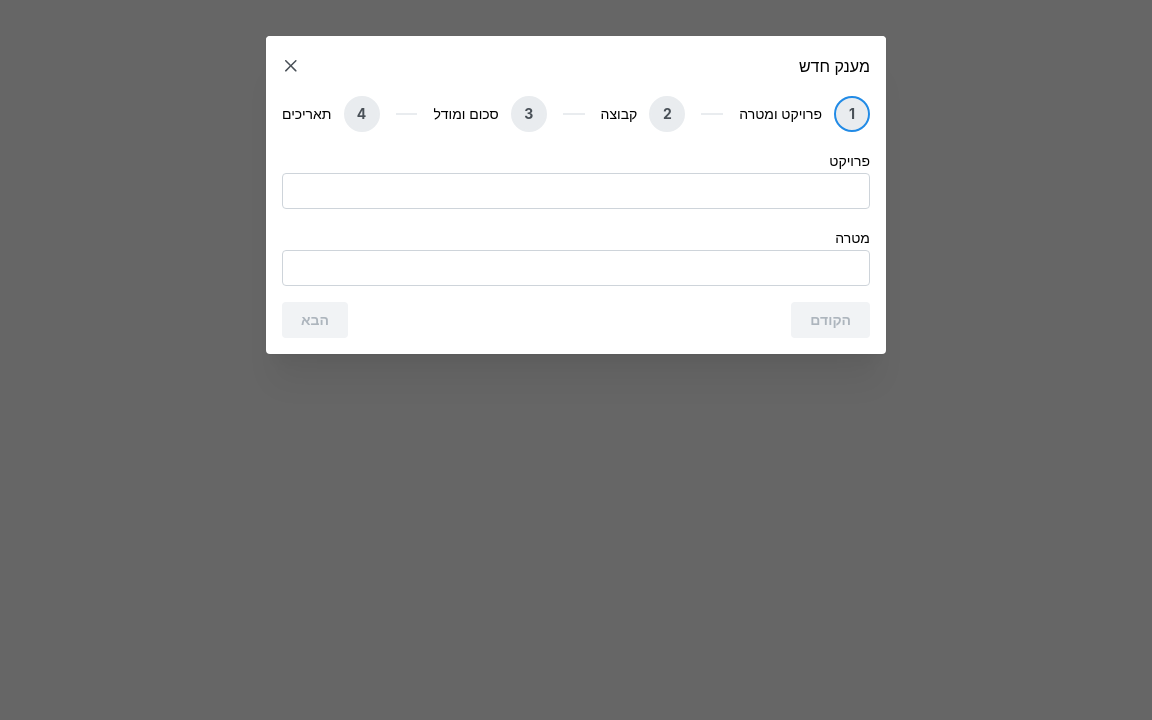
Test: GrantWizard › blocks amount above pool
The width and height of the screenshot is (1152, 720).
Type "PRJ-1" into the field with test id "wizard-project" at (576, 191), box [282,173,870,209]
Type "Pilot" into the field with test id "wizard-purpose" at (576, 268), box [282,250,870,286]
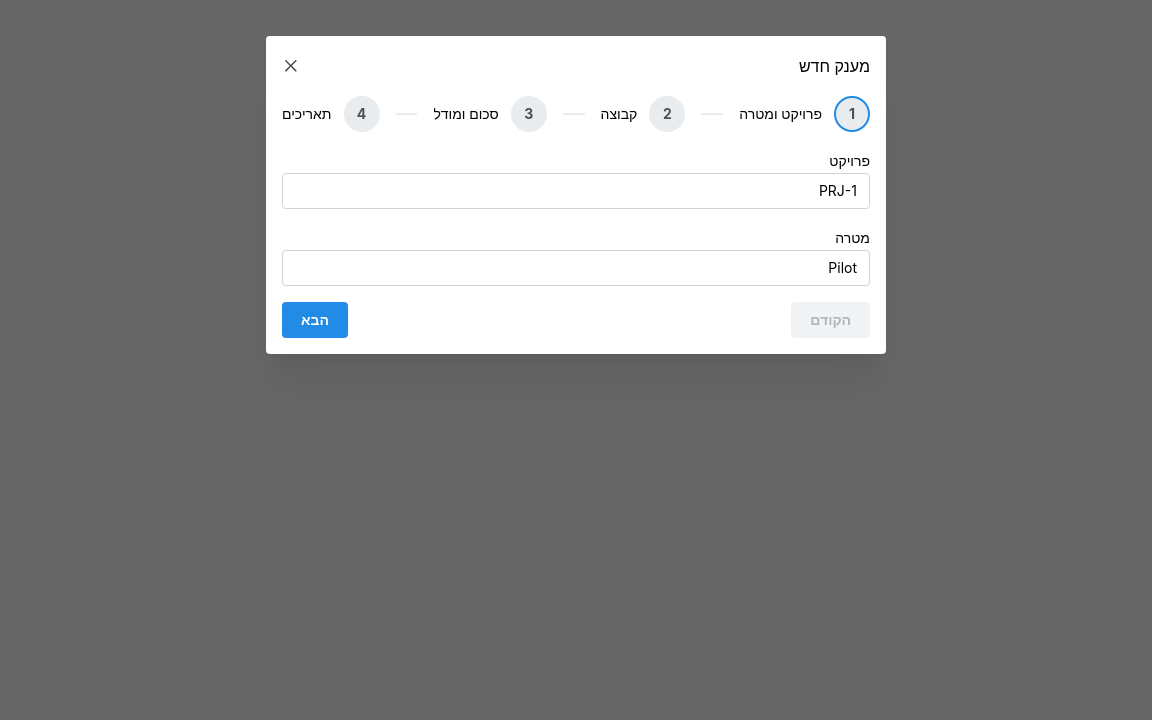
Click the button with test id "wizard-next" at (315, 320), box [282,302,348,338]
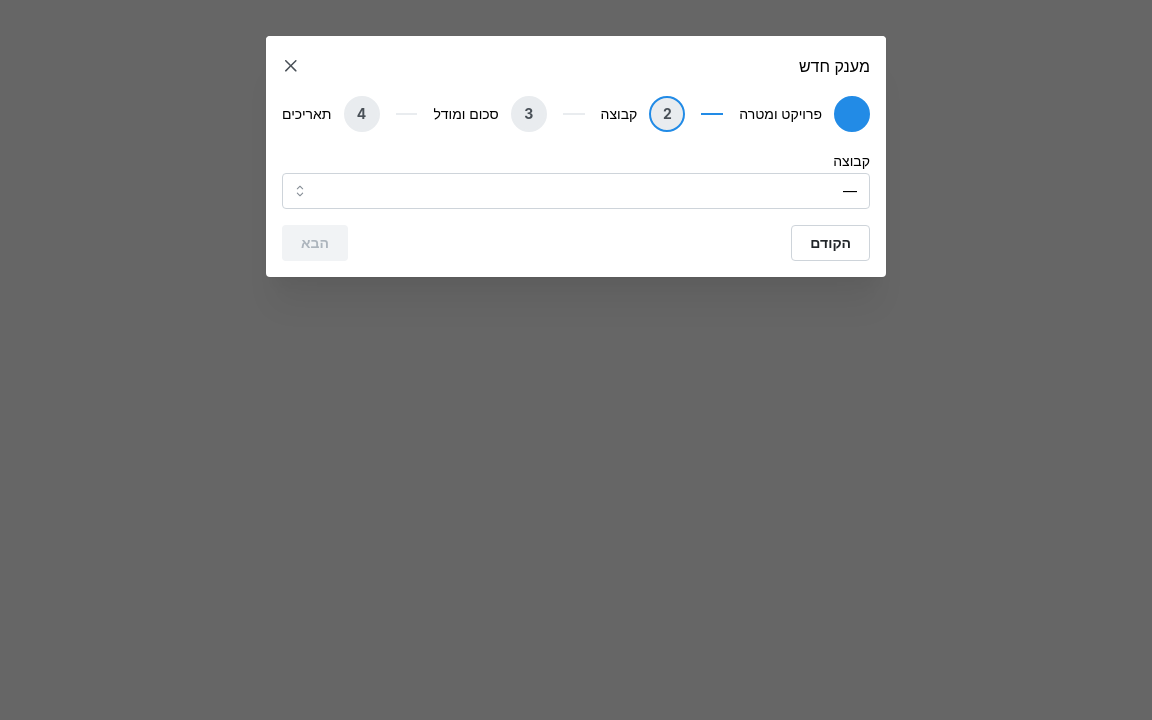
Select "Group A1" in the dropdown with test id "wizard-group" at (576, 191), box [282,173,870,209]
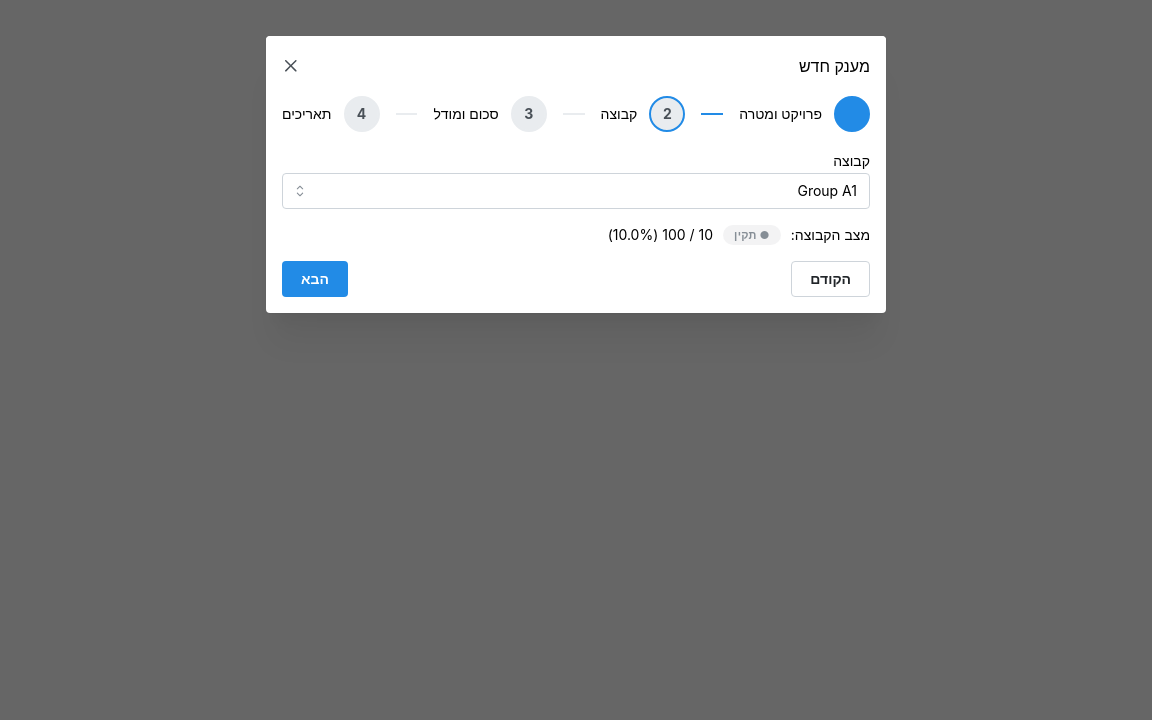
Click the button with test id "wizard-next" at (315, 279), box [282,261,348,297]
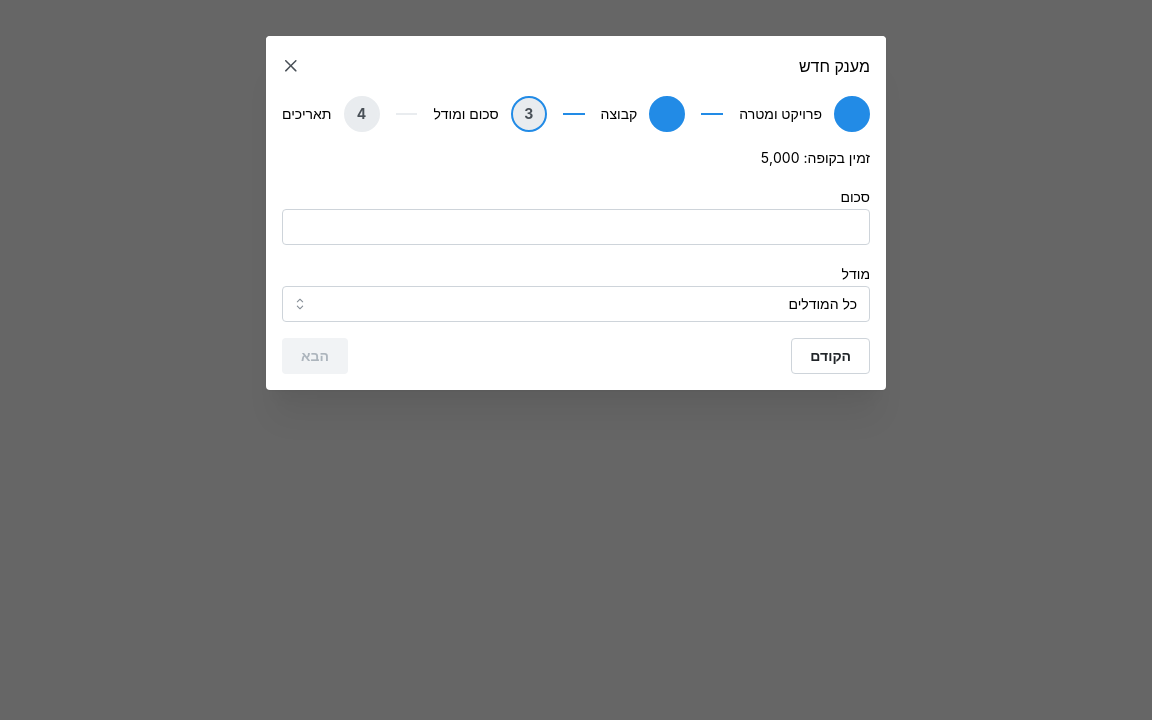
Type "5001" into the field with test id "wizard-amount" at (576, 227), box [282,209,870,245]
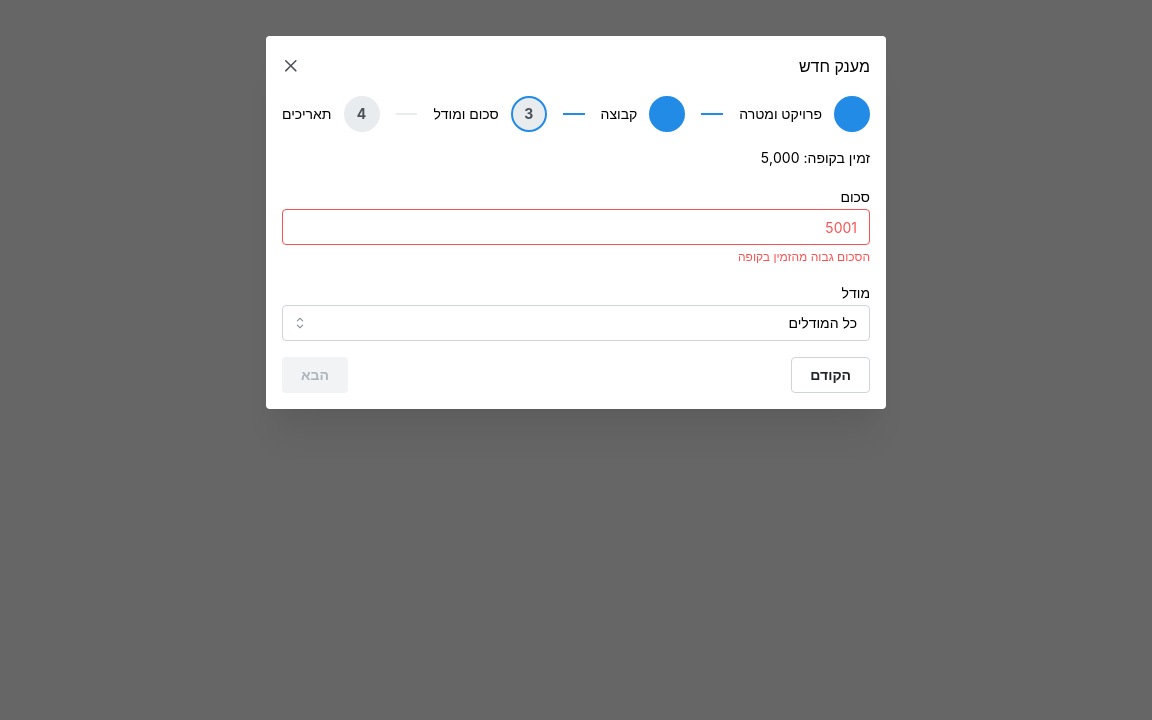
Now the button with test id "wizard-next" is disabled, box [282,357,348,393]
Now the text "הסכום גבוה מהזמין בקופה" is shown, box [738,249,870,264]
Replace the text in the field with test id "wizard-amount" with "5000" at (576, 227), box [282,209,870,245]
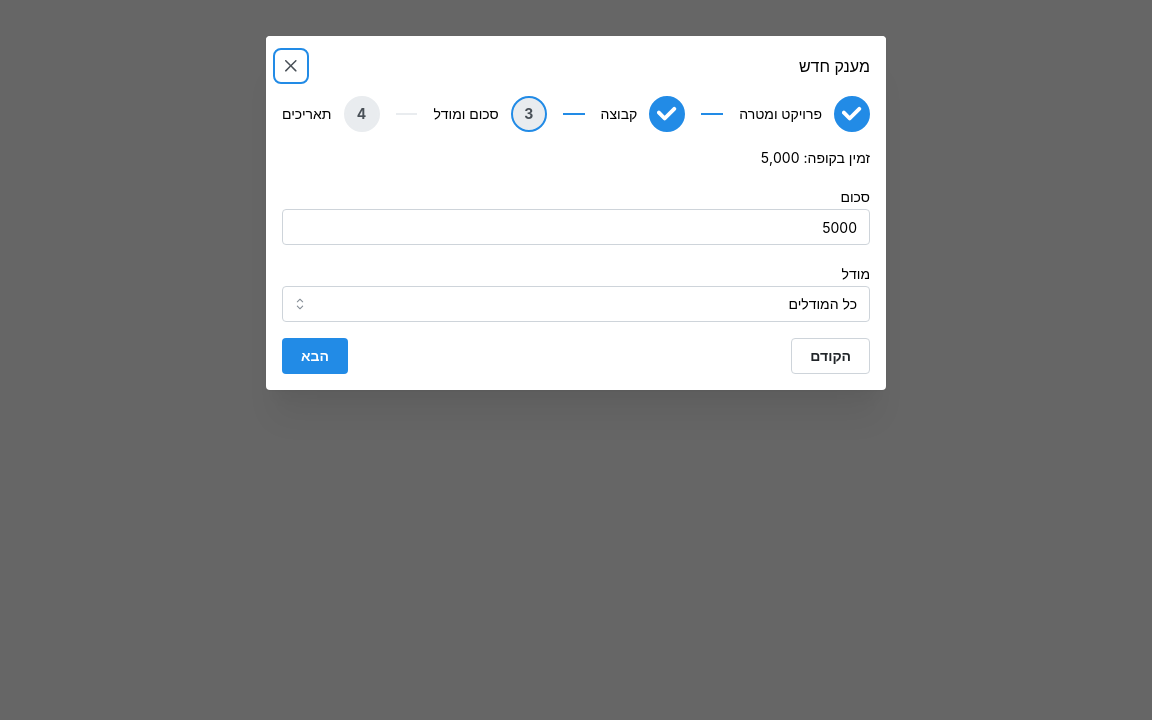
Now the button with test id "wizard-next" is enabled, box [282,338,348,374]
